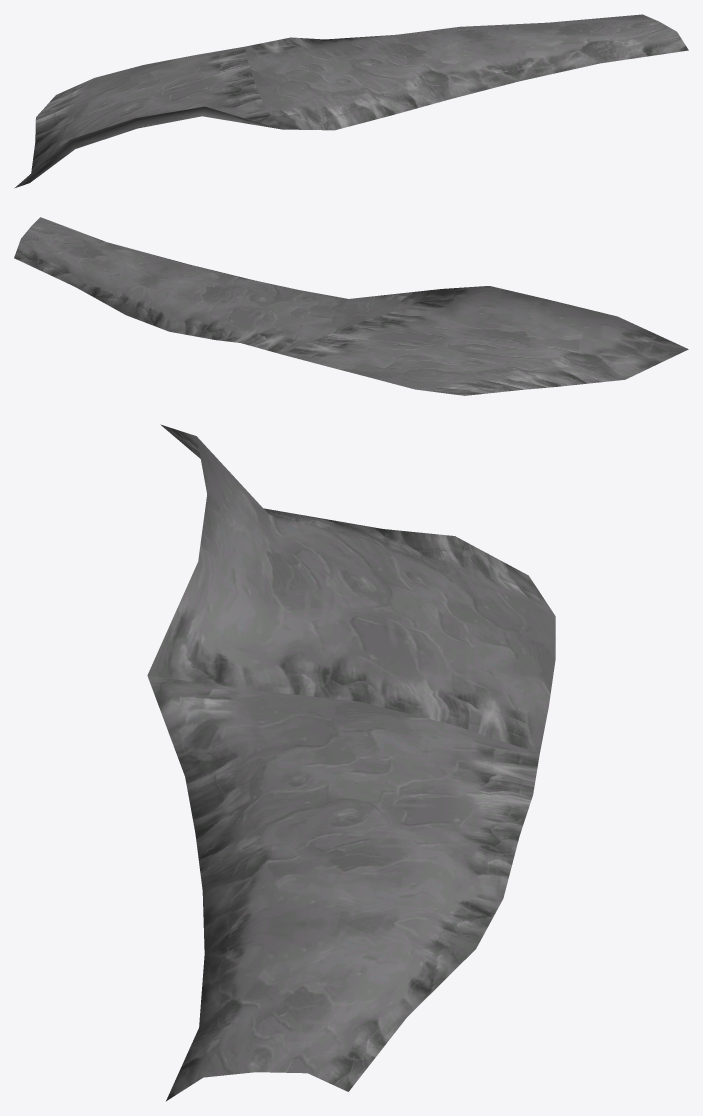
The model's file is SWORDLIGHT20_PS-AREA03_132.fbx.
3 renders of one model, top to bottom at view 1: azimuth 30°, elevation 25°; view 2: azimuth 150°, elevation 25°; view 3: azimuth 270°, elevation 25°, orthographic. The views are drawn at different scales.
Parts seen in each view (by area): view 1: SWORDLIGHT20_PS-AREA03_132; view 2: SWORDLIGHT20_PS-AREA03_132; view 3: SWORDLIGHT20_PS-AREA03_132.
Boxes of the visible parts, x1,y1,x2,y2 form: SWORDLIGHT20_PS-AREA03_132: (14, 14, 688, 188); SWORDLIGHT20_PS-AREA03_132: (14, 217, 688, 395); SWORDLIGHT20_PS-AREA03_132: (147, 424, 555, 1101).
Size of the model in its own units: 145570 by 11848 by 40243.
2 materials, 2 textured.
